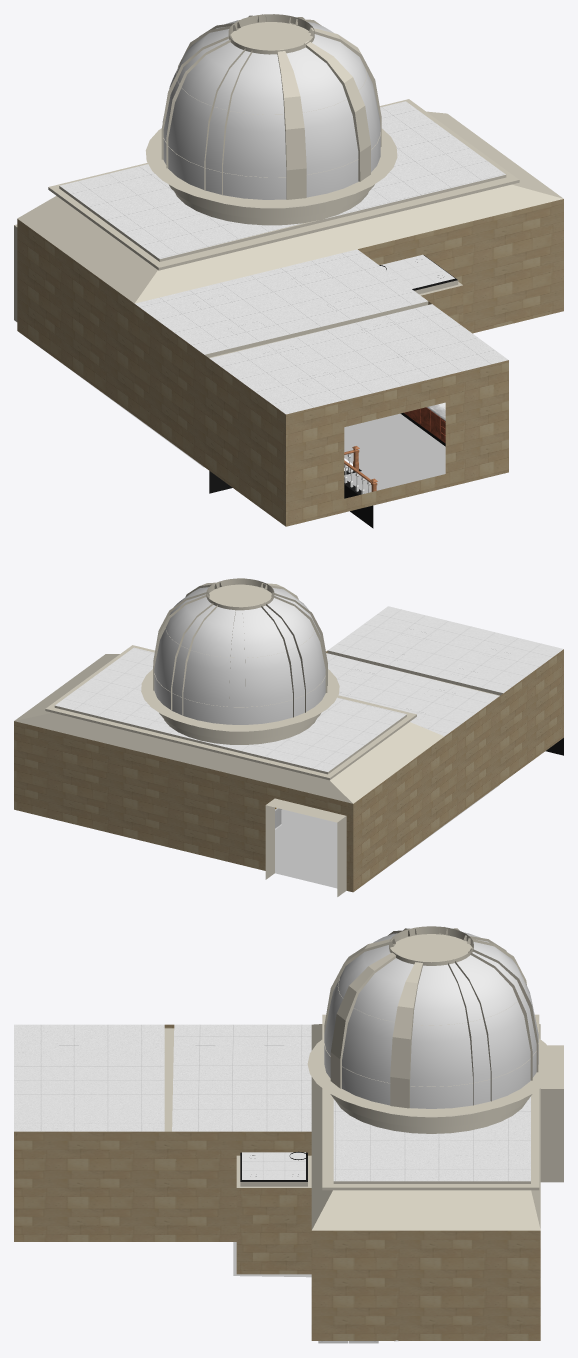
The model's file is DiningArea.fbx.
3 views of the same model, one above another, from view 1: azimuth 30°, elevation 25°; view 2: azimuth 150°, elevation 25°; view 3: azimuth 270°, elevation 25° (orthographic). The views are drawn at different scales.
Visible parts, largest first — view 1: NonBaked.022, NonBaked.020, NonBaked.026, Cube.006; view 2: NonBaked.022, NonBaked.020, NonBaked.026; view 3: NonBaked.022, NonBaked.020, NonBaked.026.
Part boxes in pixels (x1=…): NonBaked.022: x1=14, y1=99, x2=563, y2=528; NonBaked.020: x1=162, y1=20, x2=380, y2=199; NonBaked.026: x1=161, y1=14, x2=381, y2=199; Cube.006: x1=400, y1=402, x2=445, y2=446; NonBaked.022: x1=14, y1=606, x2=563, y2=896; NonBaked.020: x1=154, y1=583, x2=325, y2=724; NonBaked.026: x1=153, y1=578, x2=327, y2=717; NonBaked.022: x1=14, y1=1014, x2=563, y2=1343; NonBaked.020: x1=324, y1=932, x2=538, y2=1108; NonBaked.026: x1=324, y1=926, x2=538, y2=1108.
Bounding box in the file's own units: 1306 × 909 × 1469.
